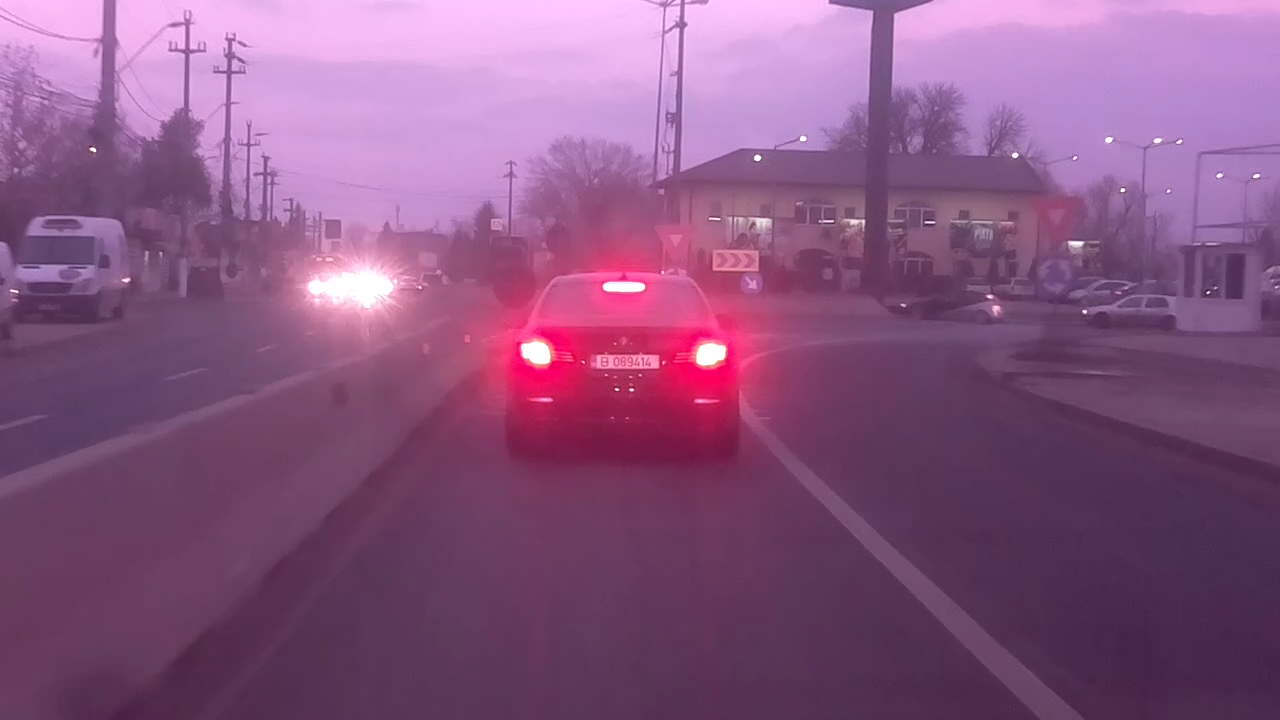license-plate: (584, 351, 664, 372)
